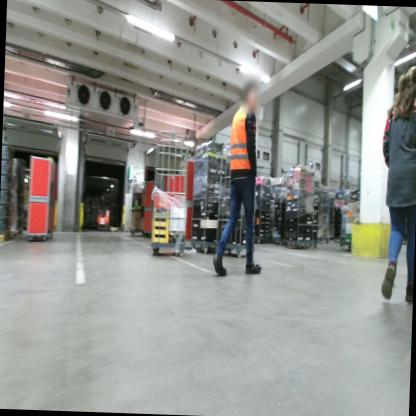pallet_truck: (91, 180, 119, 234)
